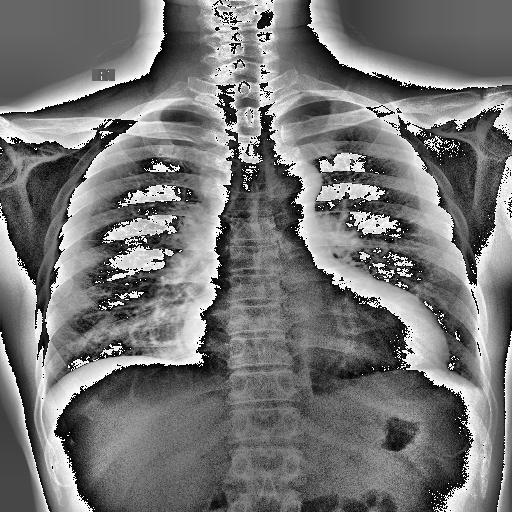3- Cardiomegaly: (182, 313, 447, 384), (180, 301, 450, 369), (176, 314, 450, 378)
